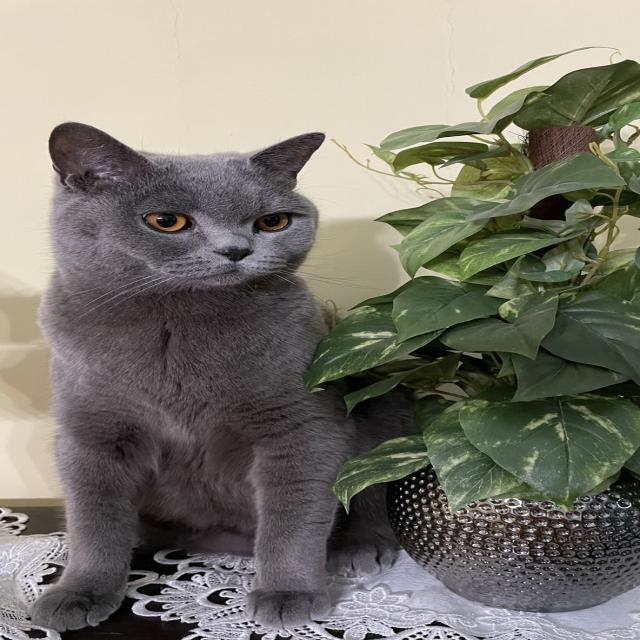british shorthair: (24, 81, 474, 635)
